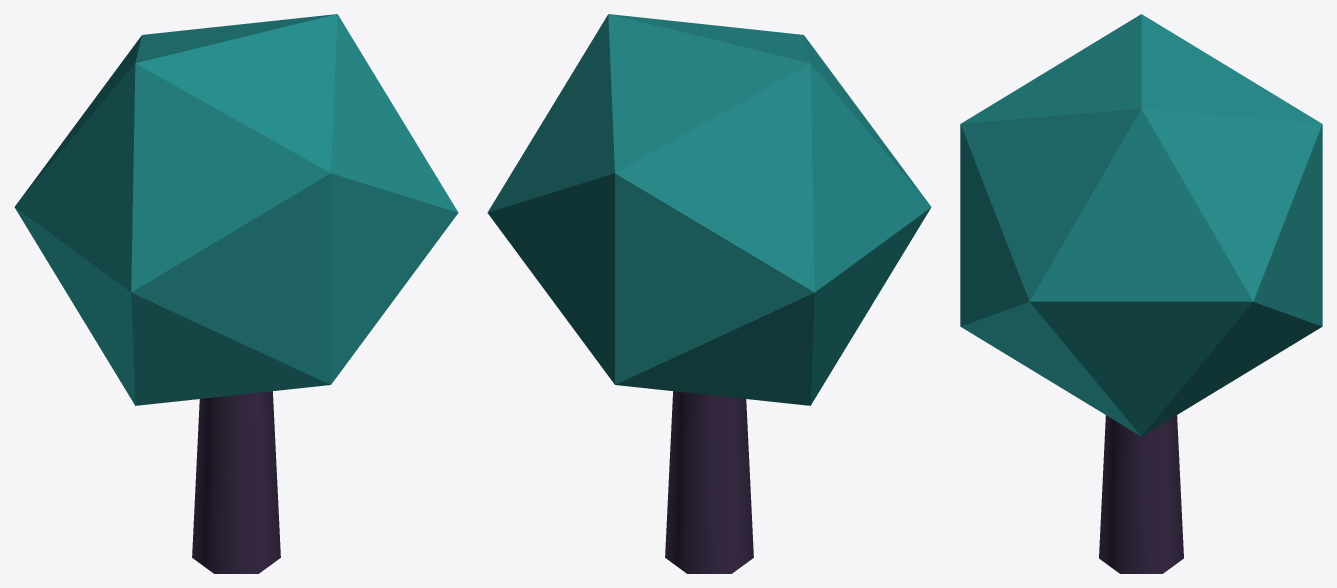
File: tree.glb
The picture shows the model from 3 angles, left to right: view 1: azimuth 30°, elevation 25°; view 2: azimuth 150°, elevation 25°; view 3: azimuth 270°, elevation 25°; orthographic projection. The views are drawn at different scales.
Visible parts, largest first — view 1: canopy, trunk; view 2: canopy, trunk; view 3: canopy, trunk.
Boxes of the visible parts, bbox=[...] form: canopy: bbox=[14, 14, 458, 405]; trunk: bbox=[192, 391, 280, 573]; canopy: bbox=[487, 14, 931, 405]; trunk: bbox=[665, 391, 753, 573]; canopy: bbox=[960, 14, 1322, 436]; trunk: bbox=[1099, 415, 1183, 573].
Size of the model in its own units: 1.87 by 2.84 by 1.87.
